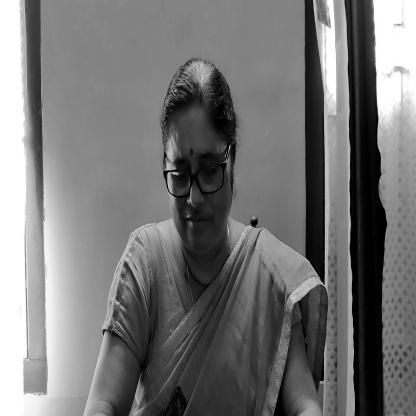Normal: (155, 55, 236, 246)
